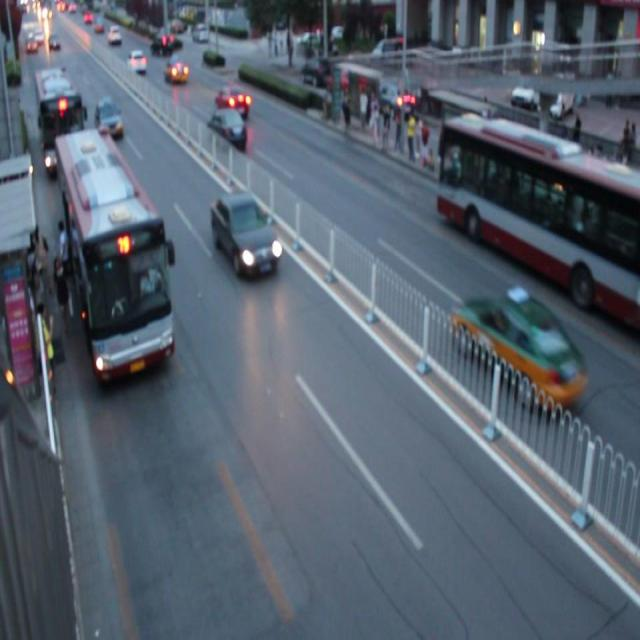car: (450, 290, 583, 415), (211, 192, 278, 279), (204, 108, 247, 154), (214, 83, 250, 121), (94, 97, 124, 141), (162, 56, 191, 88)
van: (438, 110, 640, 337), (53, 134, 173, 376), (36, 69, 85, 169)
